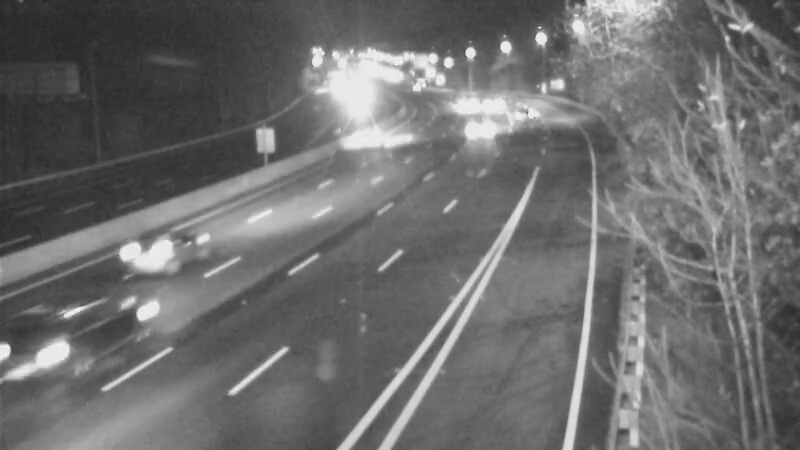vehicle: (1, 299, 96, 409), (103, 212, 183, 292), (441, 78, 491, 128), (467, 85, 517, 135), (496, 88, 546, 138), (453, 105, 503, 155), (339, 107, 389, 157)
